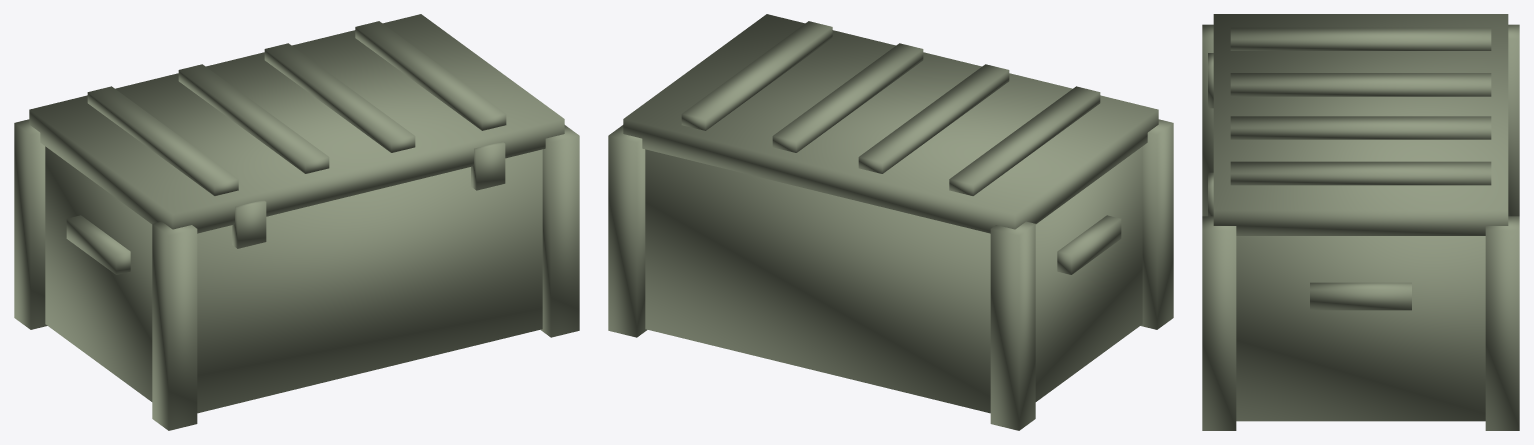
File: SM_SupplyCrate_MEG.fbx
3 renders of one model, left to right at view 1: azimuth 30°, elevation 25°; view 2: azimuth 150°, elevation 25°; view 3: azimuth 270°, elevation 25°, orthographic. The views are drawn at different scales.
Visible parts, largest first — view 1: Cube; view 2: Cube; view 3: Cube.
Part boxes in pixels (x1,y1,x2,y2): Cube: [14, 14, 579, 430]; Cube: [608, 14, 1173, 430]; Cube: [1202, 14, 1519, 430].
Bounding box in the file's own units: 86 × 44.25 × 56.
